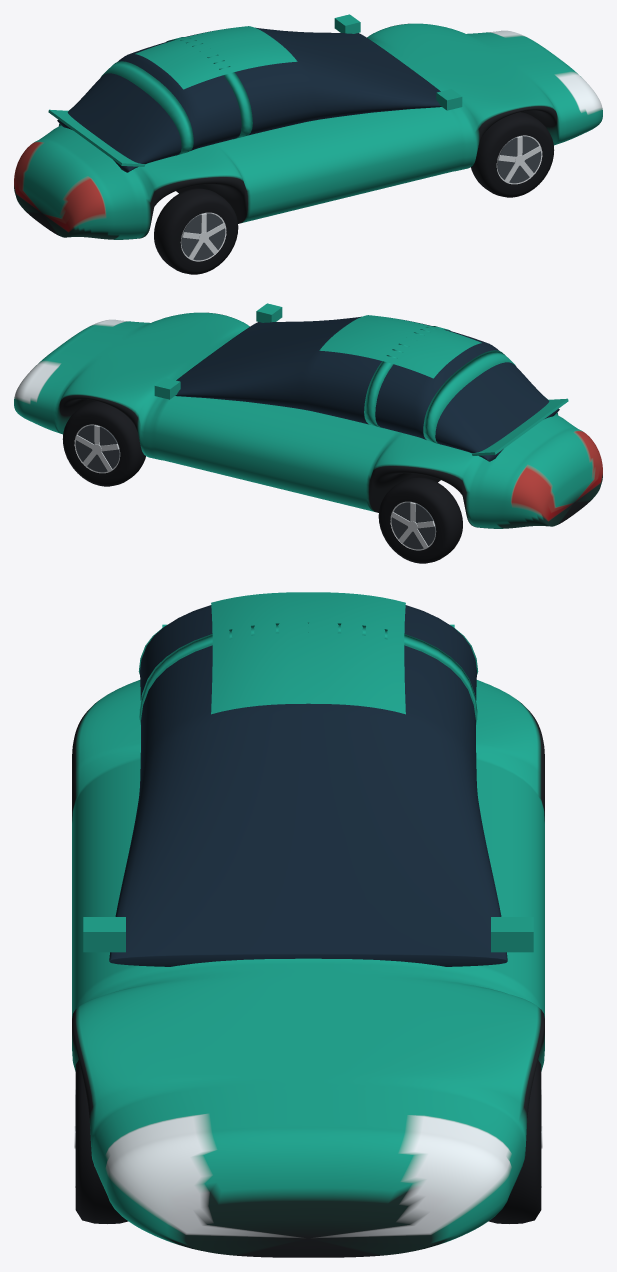
Rendered from EV01_OPT2.glb.
3 views of the same model, one above another, from view 1: azimuth 30°, elevation 25°; view 2: azimuth 150°, elevation 25°; view 3: azimuth 270°, elevation 25° (orthographic). The views are drawn at different scales.
Parts seen in each view (by area): view 1: body, glass, wheel (×2), roof, pillar (×2), spoiler, object 7, object 6; view 2: body, glass, wheel (×2), roof, pillar (×2), spoiler, object 6, object 7; view 3: body, glass, roof, wheel (×2), pillar, object 6, object 7.
Part boxes in pixels (<box>): body: <box>14,23,602,239</box>; glass: <box>57,27,441,172</box>; wheel (×2): <box>154,112,554,274</box>; roof: <box>135,26,297,89</box>; pillar (×2): <box>101,37,252,155</box>; spoiler: <box>48,109,144,166</box>; object 7: <box>436,89,462,110</box>; object 6: <box>334,14,360,33</box>; body: <box>14,312,602,528</box>; glass: <box>175,316,559,461</box>; wheel (×2): <box>62,401,462,563</box>; roof: <box>319,315,481,378</box>; pillar (×2): <box>364,326,515,444</box>; spoiler: <box>472,398,568,455</box>; object 6: <box>154,378,180,399</box>; object 7: <box>256,303,282,322</box>; body: <box>72,680,544,1257</box>; glass: <box>109,605,507,966</box>; roof: <box>211,592,405,714</box>; wheel (×2): <box>74,1060,542,1223</box>; pillar: <box>139,622,477,724</box>; object 6: <box>491,917,533,952</box>; object 7: <box>83,917,125,952</box>.
Bounding box in the file's own units: 4.8 × 1.49 × 1.88.
